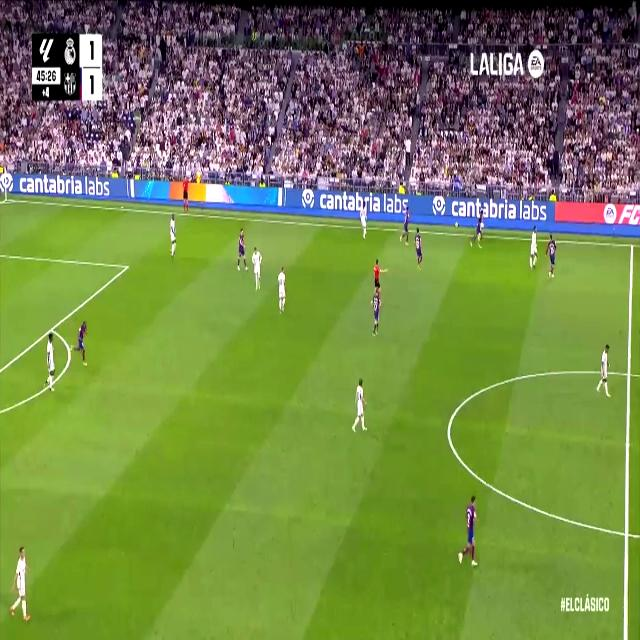bigarea_top_inner: (124, 258, 130, 274)
corner: (1, 193, 11, 206)
halfcircle_bottom: (621, 518, 633, 549)
halfcircle_top: (624, 362, 634, 384)
midline_top_intersection: (628, 239, 636, 253)
top_arc_area_intersection: (48, 319, 56, 336)
